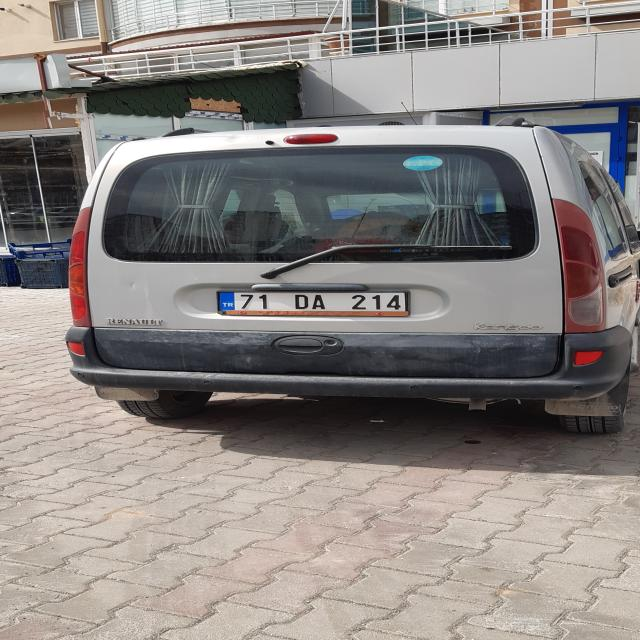plate: (217, 292, 408, 312)
